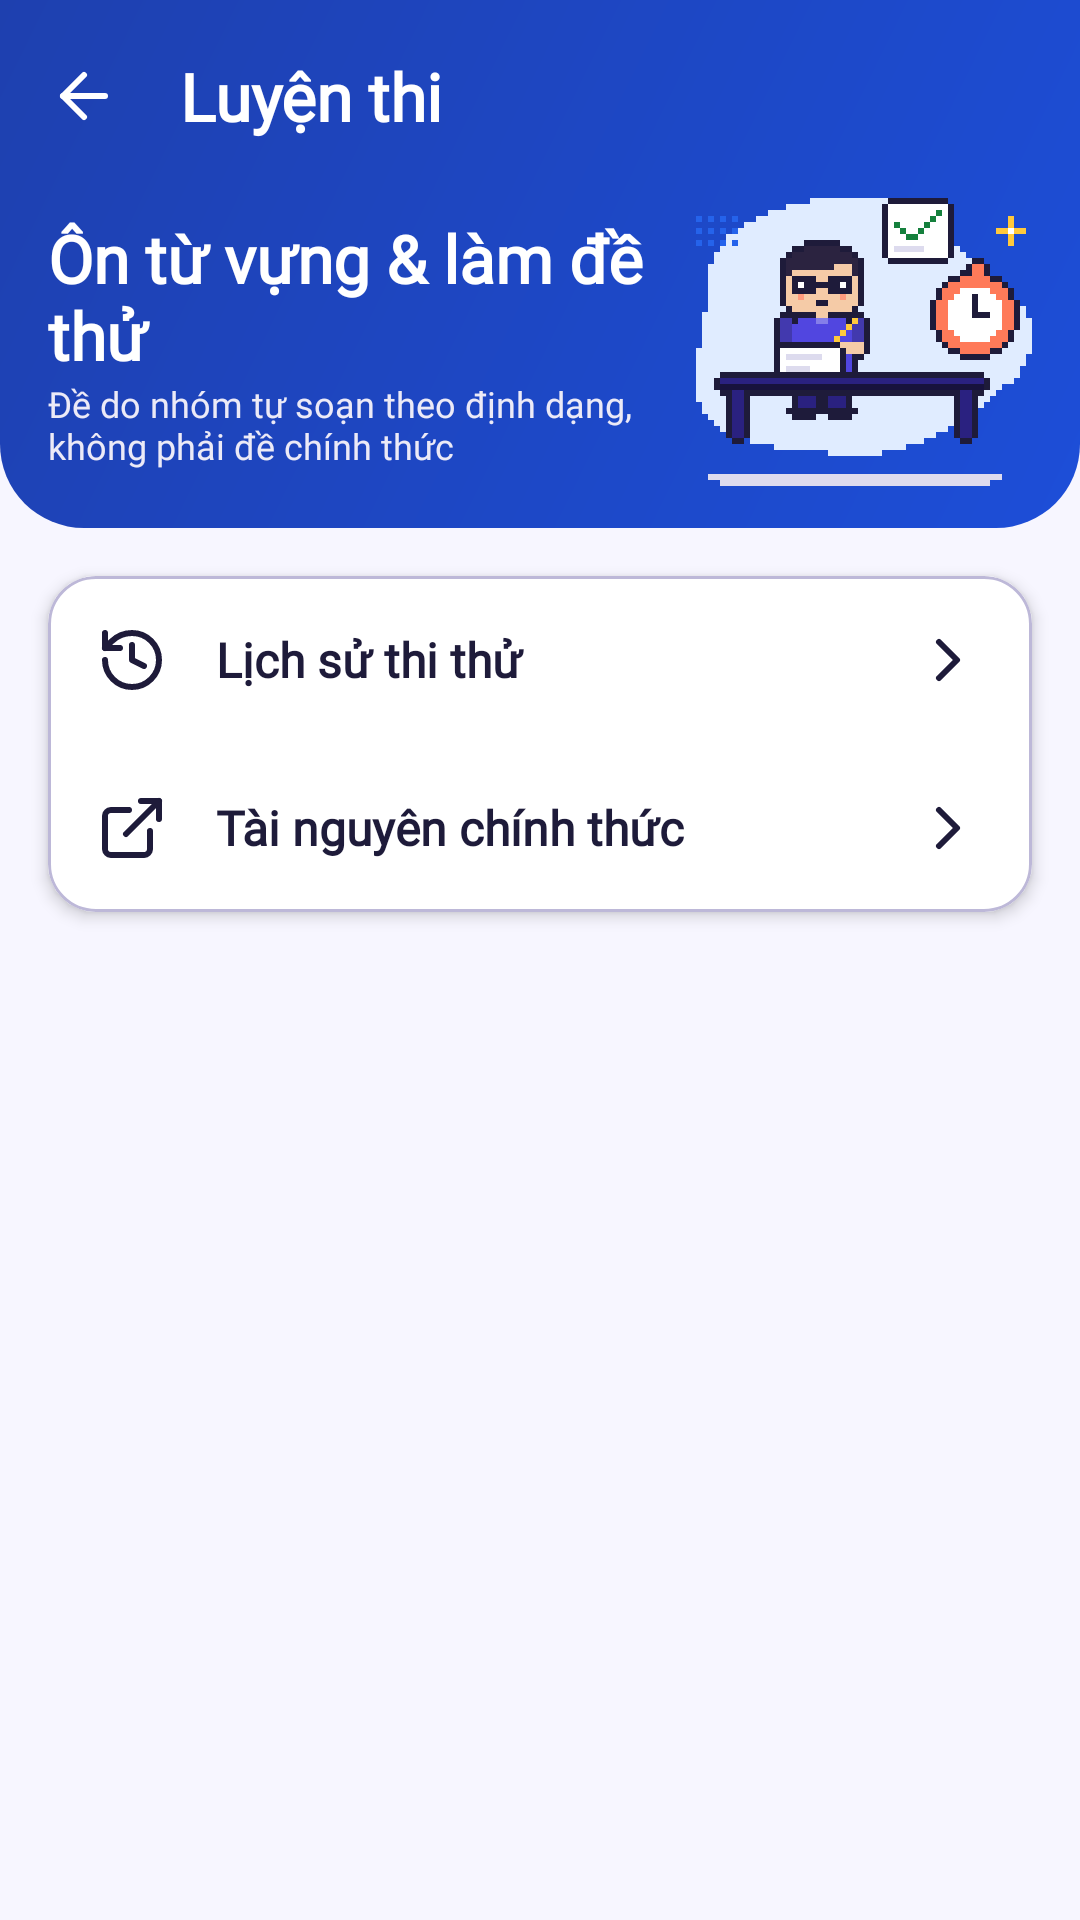

Named icons in this screenshot (1080 × 1920) and their centers, (x=x, y=y):
ill exam prep: (x=864, y=342)
